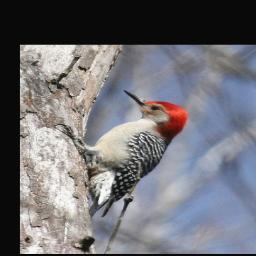Woodpecker: (48, 87, 195, 223)
